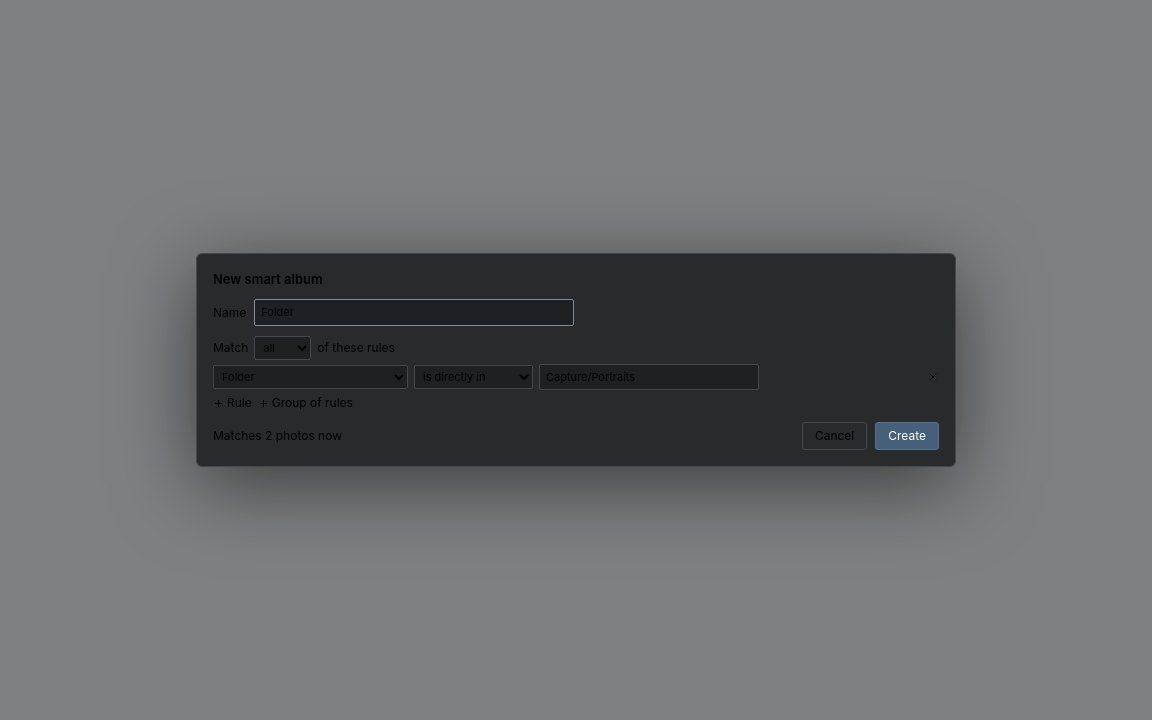
it: smart album editor › says a failed save in the dialog, which the activity centre behind it cannot
Click the button "Create": (907, 436) [875,422,939,450]
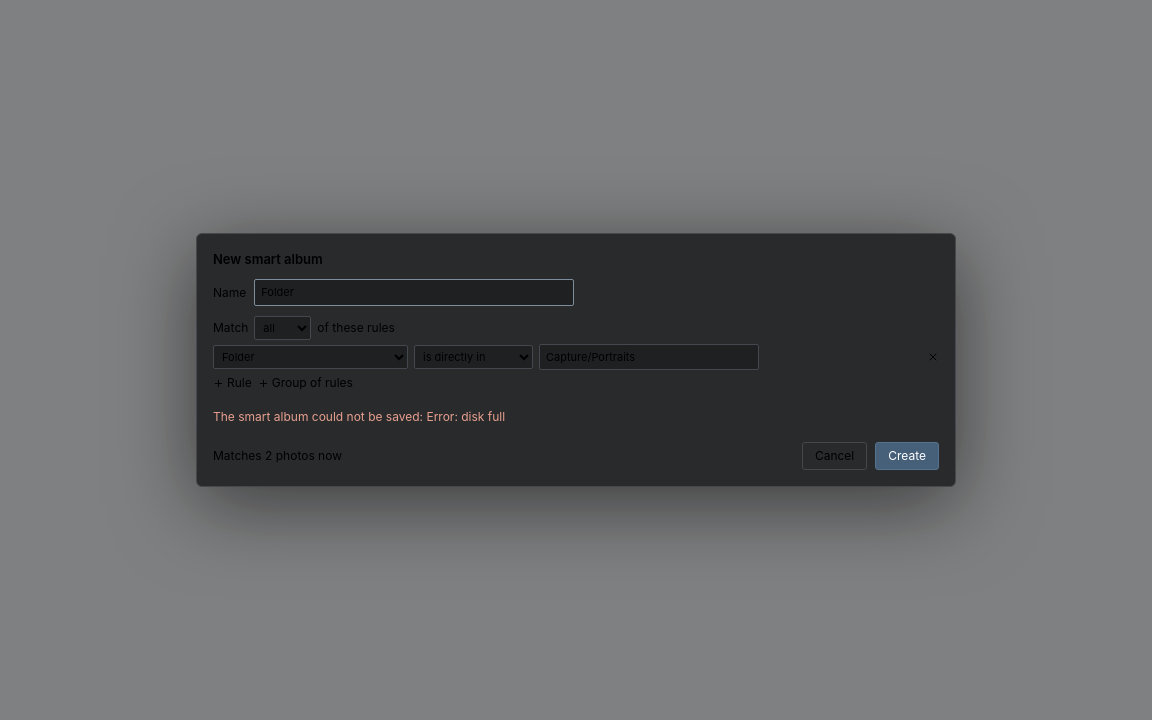
Expected: the dialog is shown, [196,233,956,487]
Expected: the message "The smart album could not be saved: Error: disk full" is shown, [213,409,505,424]
